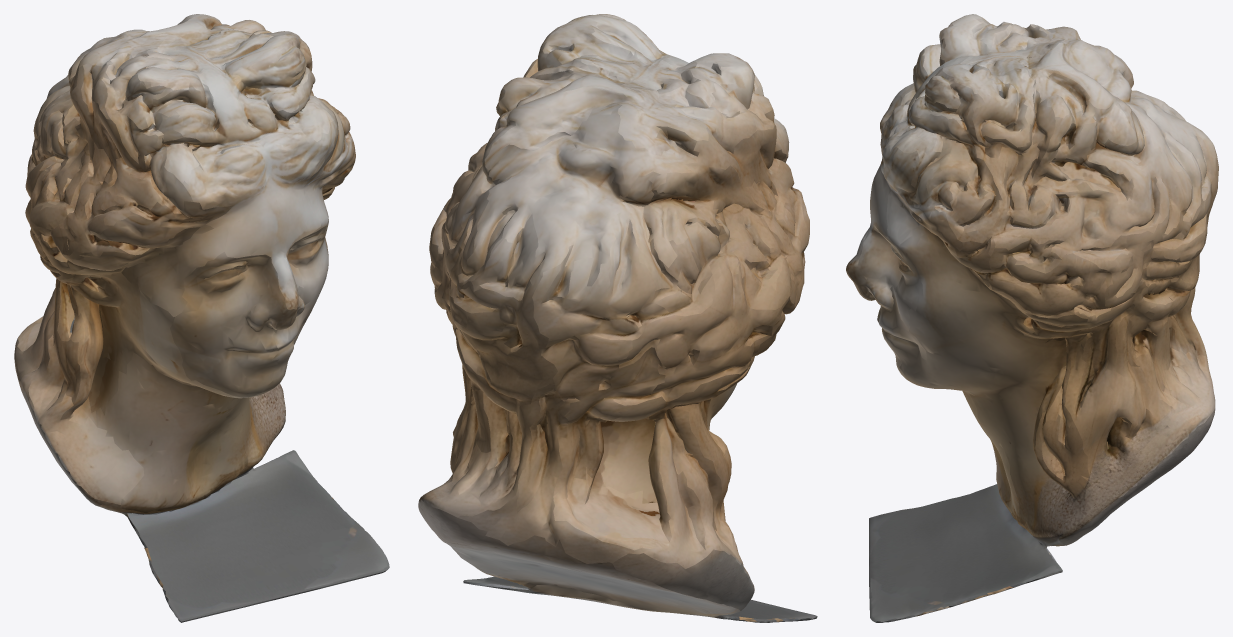
The picture shows the model from 3 angles, left to right: view 1: azimuth 30°, elevation 25°; view 2: azimuth 150°, elevation 25°; view 3: azimuth 270°, elevation 25°; orthographic projection. The views are drawn at different scales.
Parts seen in each view (by area): view 1: textured_mesh; view 2: textured_mesh; view 3: textured_mesh.
Part boxes in pixels (left/top/right/bottom): textured_mesh: left=14, top=14, right=389, bottom=622; textured_mesh: left=418, top=14, right=817, bottom=622; textured_mesh: left=846, top=14, right=1218, bottom=622.
Bounding box in the file's own units: 1.14 × 1.99 × 1.29.
1 material, 1 textured.
